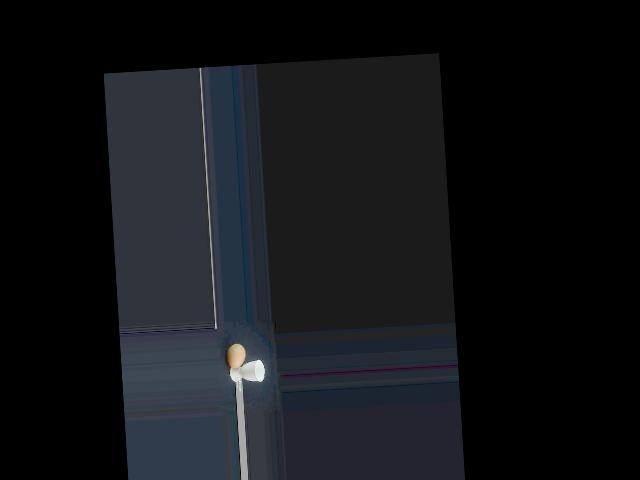egg: (227, 343, 246, 369)
